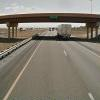Bridge: (7, 7, 90, 24)
